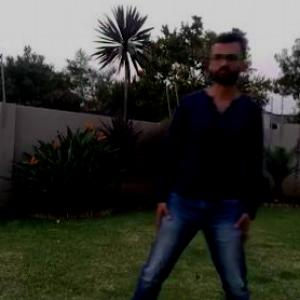follow: (160, 22, 270, 299)
